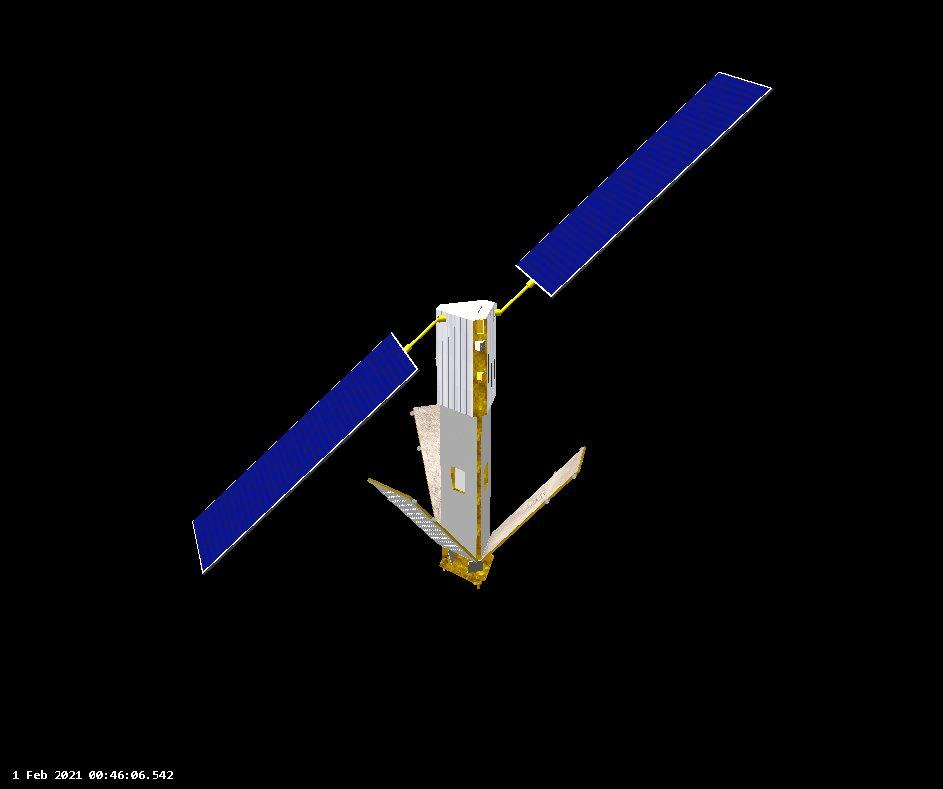body: (433, 296, 497, 593)
solar: (509, 68, 776, 300), (186, 326, 422, 579), (477, 441, 588, 565), (364, 475, 476, 562), (409, 401, 445, 525)
